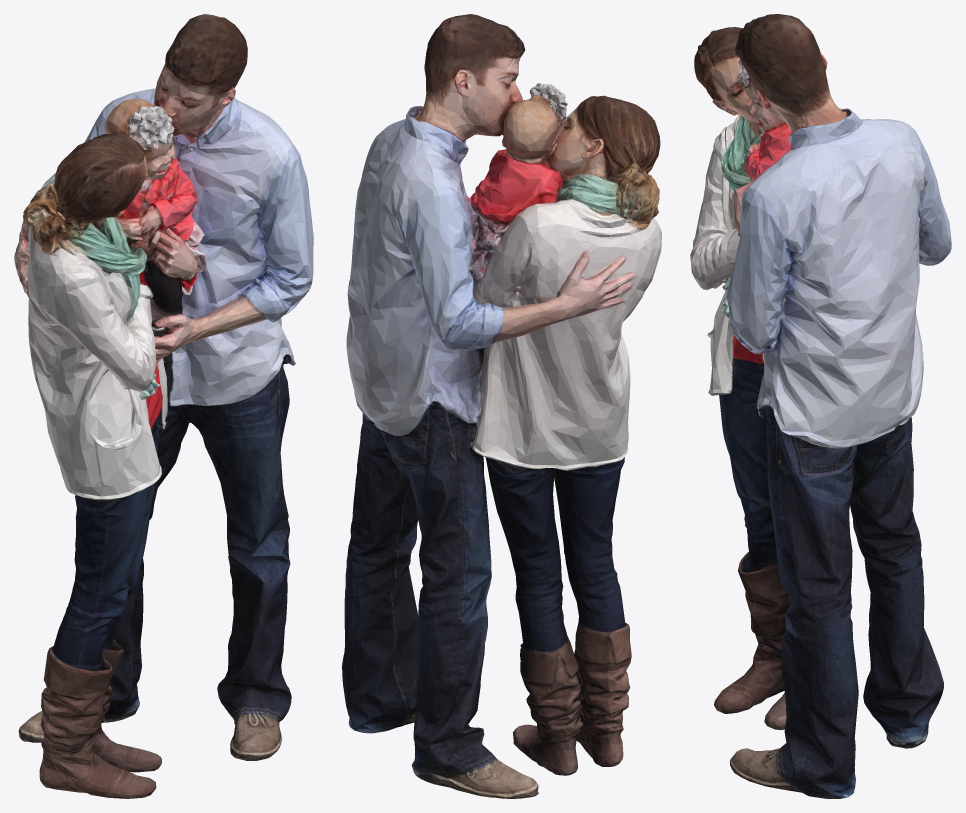
The picture shows the model from 3 angles, left to right: view 1: azimuth 30°, elevation 25°; view 2: azimuth 150°, elevation 25°; view 3: azimuth 270°, elevation 25°; orthographic projection. The views are drawn at different scales.
Parts seen in each view (by area): view 1: s4studio_mesh_1; view 2: s4studio_mesh_1; view 3: s4studio_mesh_1.
Boxes of the visible parts, x1,y1,x2,y2 form: s4studio_mesh_1: (14, 14, 313, 798); s4studio_mesh_1: (342, 14, 661, 798); s4studio_mesh_1: (690, 14, 951, 798).
Size of what is drawn, in the model's own units: 0.7218 by 1.73 by 0.5575.
1 material, 1 textured.
